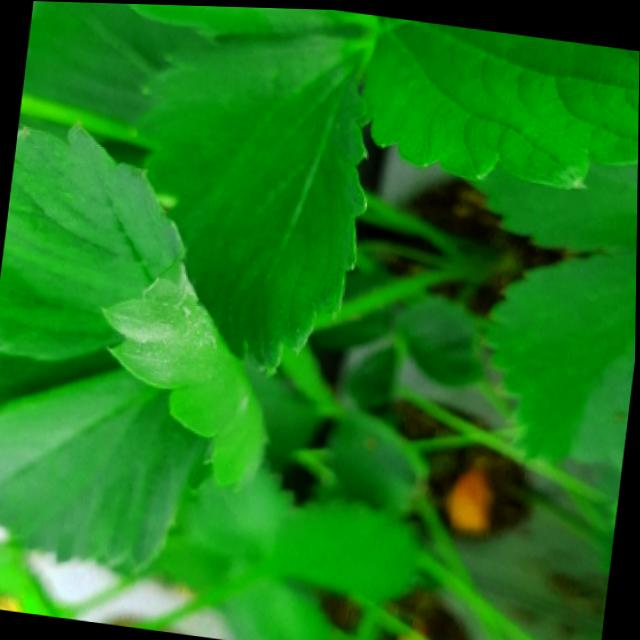Powdery Mildew Leaf: (0, 117, 269, 494)
